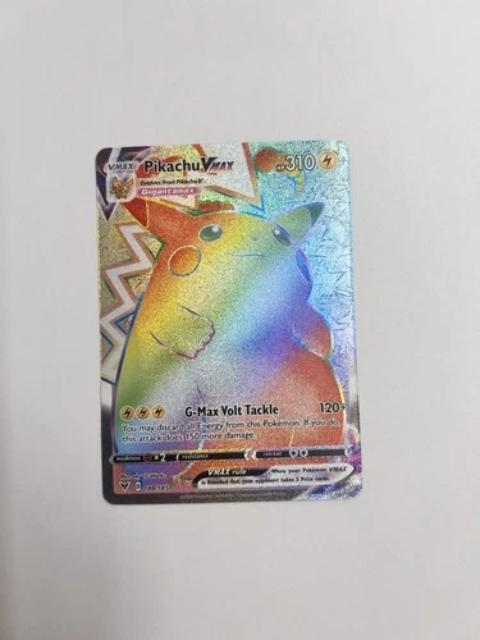Card: (93, 133, 367, 509)
Name: (140, 152, 236, 179)
